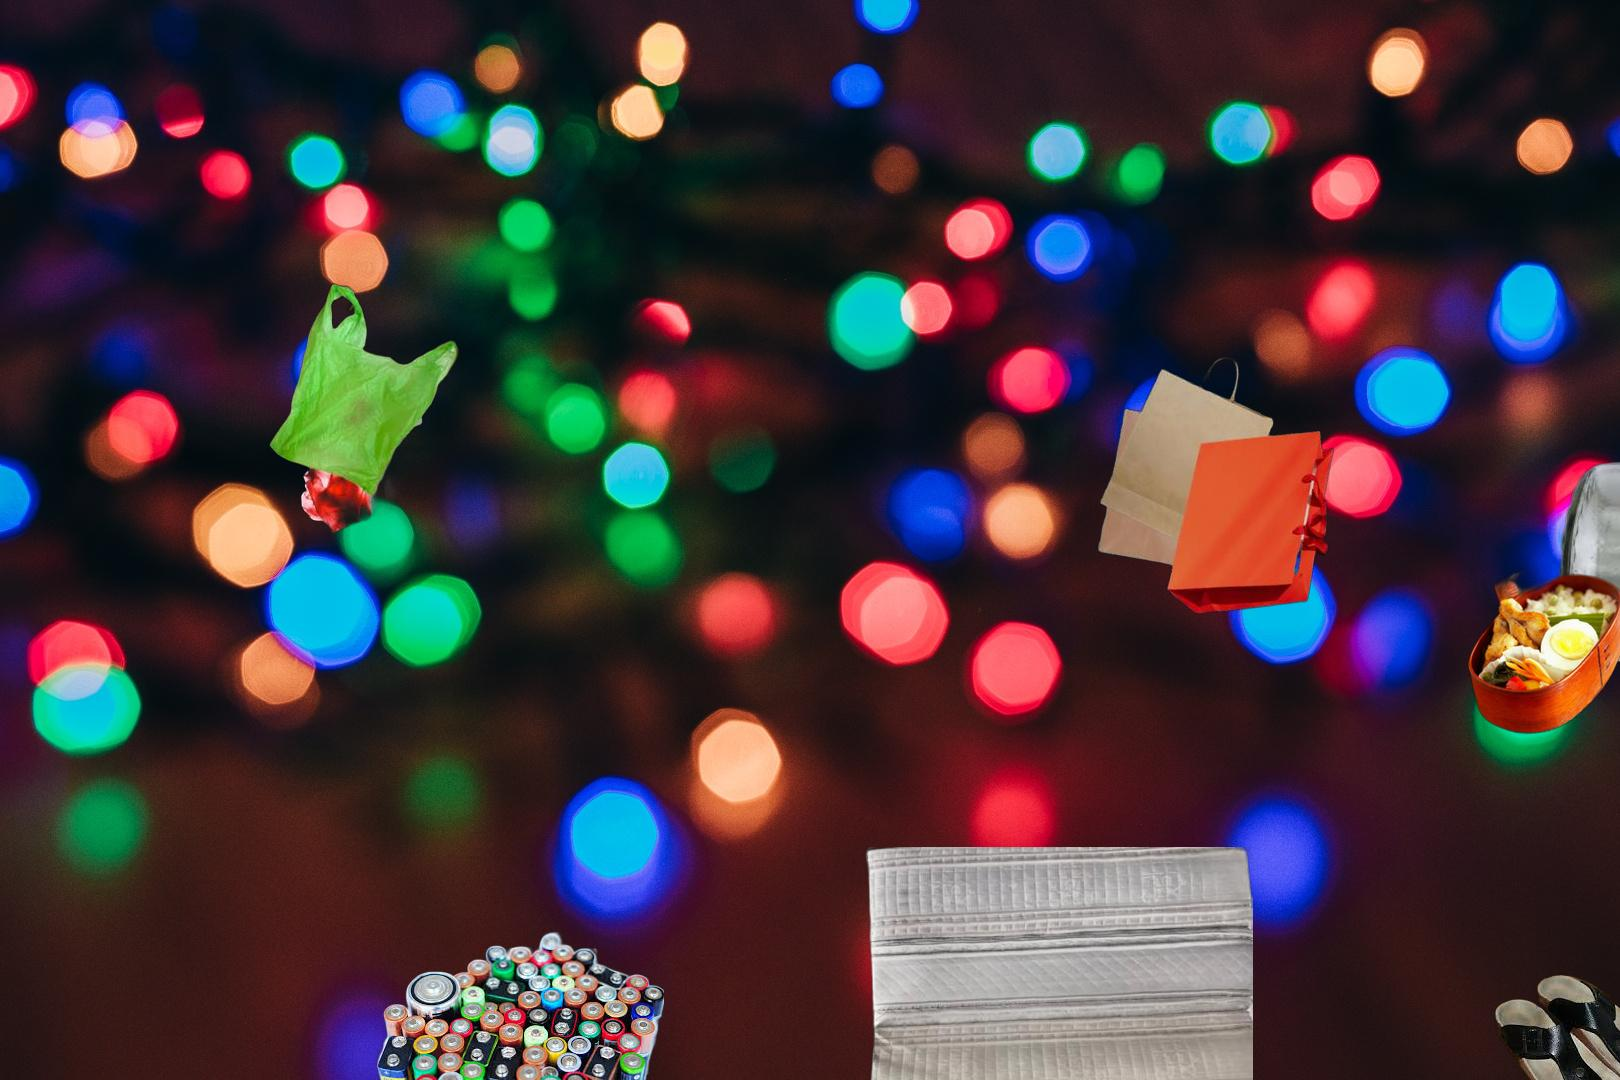battery: (374, 929, 664, 1080)
biological: (1465, 540, 1620, 773)
glass: (1556, 460, 1620, 676)
paper: (861, 847, 1254, 1080)
paper-bag: (1094, 352, 1337, 616)
plastic-bag: (266, 282, 460, 535)
shoes: (1492, 972, 1620, 1080)
